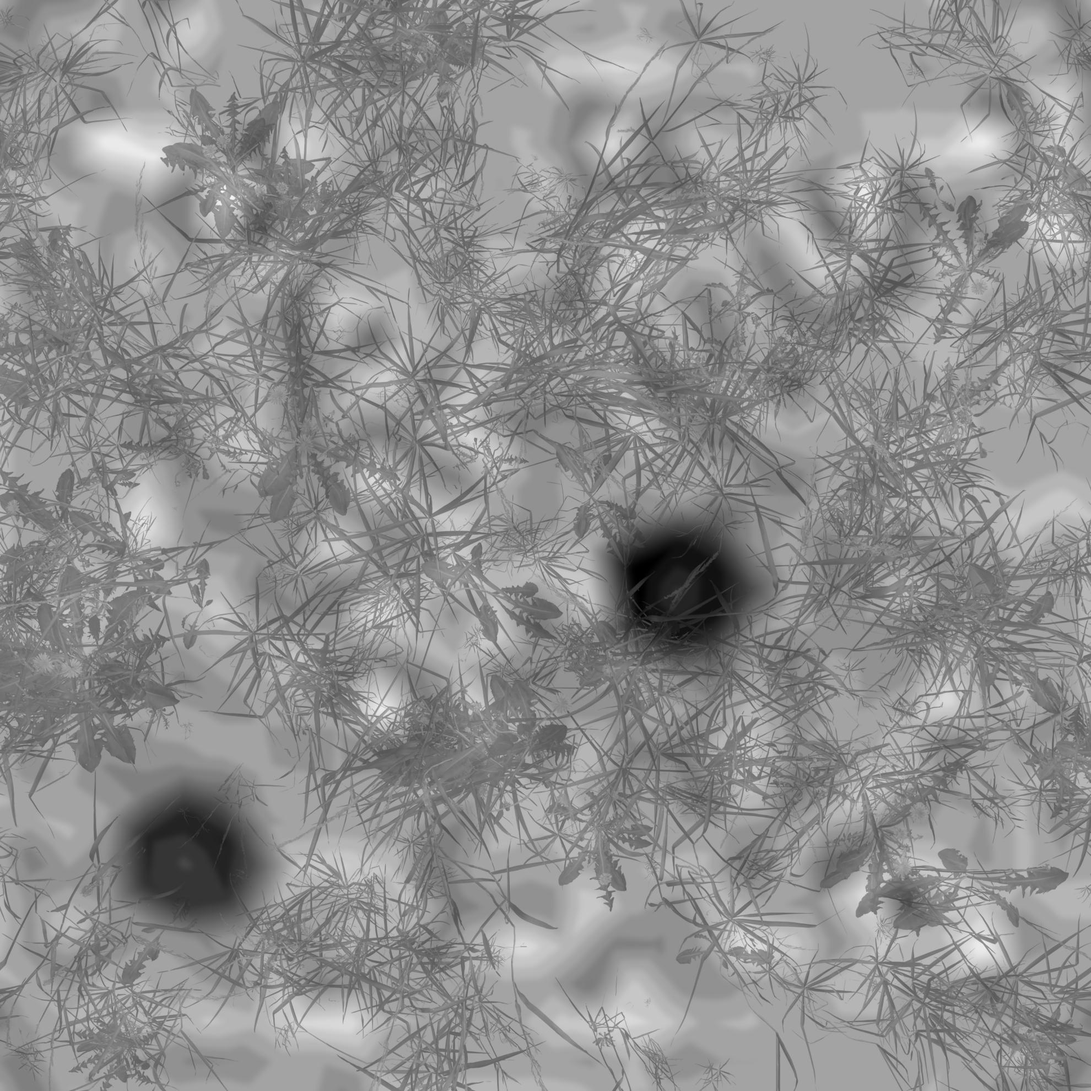landmine: (600, 511, 758, 658), (120, 791, 264, 926)
